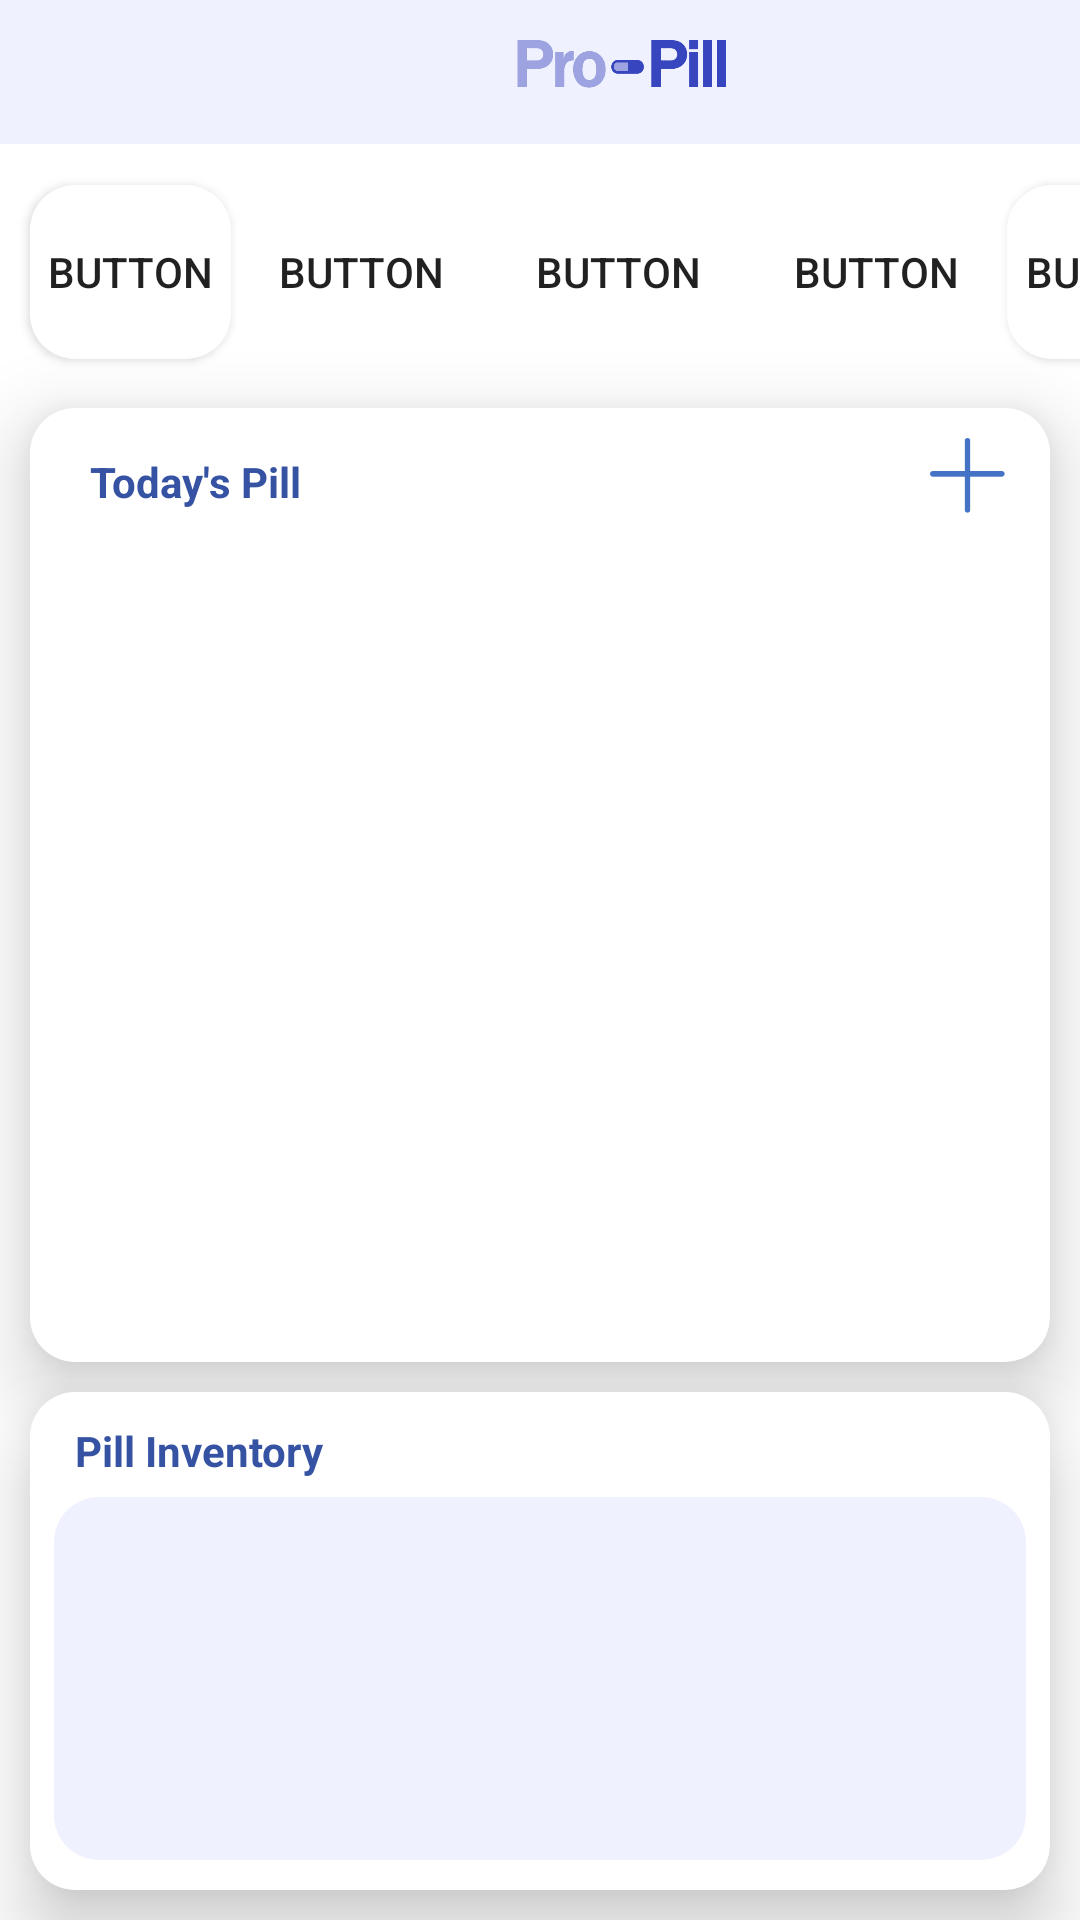

Icon click points for this 1080w x 1920h phone screenshot, format (x=x, y=y):
pluspropill: (x=967, y=475)
